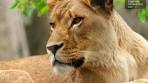lion: (2, 3, 148, 79)
